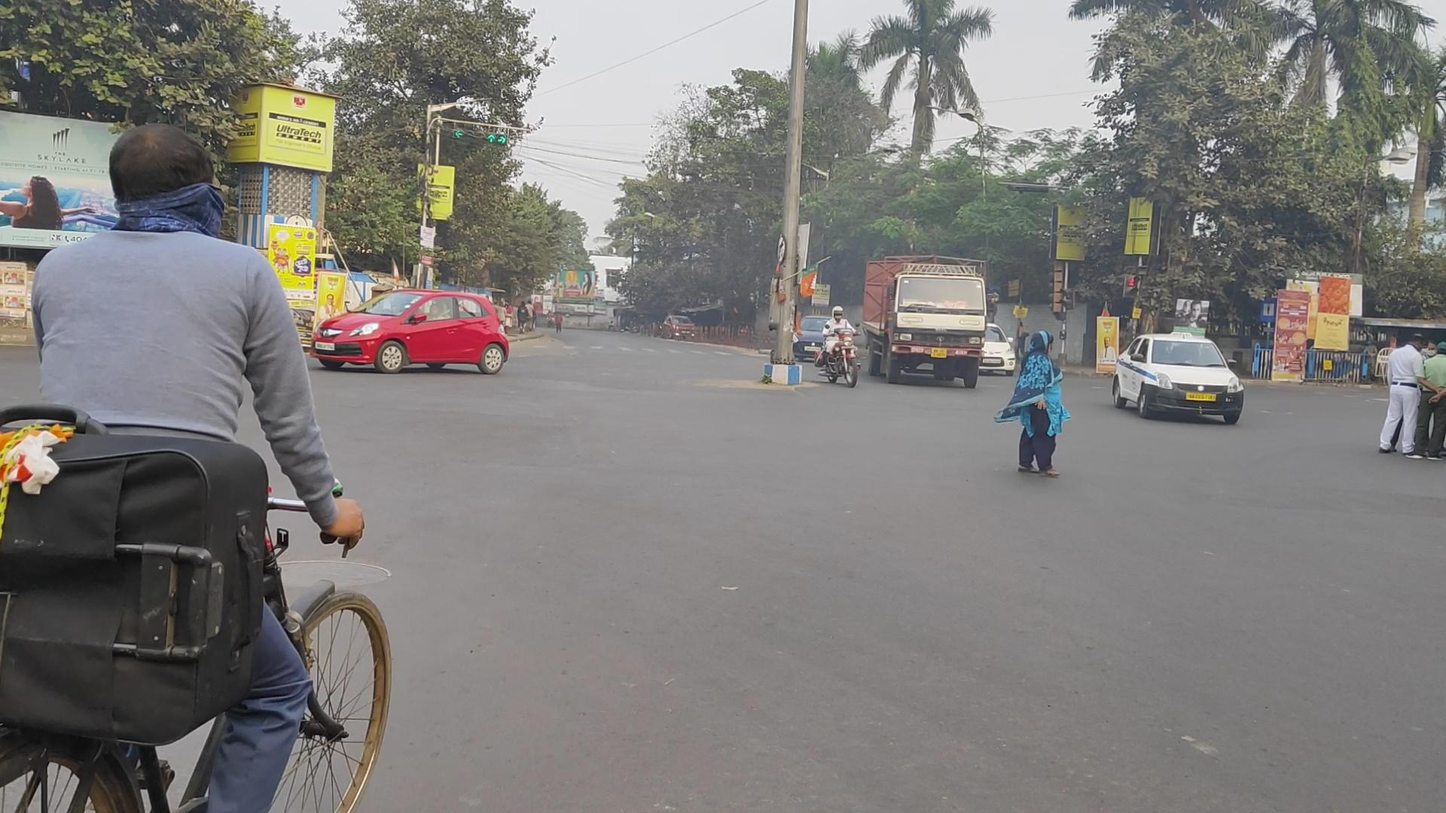bike: (1, 123, 392, 813), (812, 306, 859, 388)
car: (307, 288, 509, 375), (1112, 331, 1245, 425), (791, 314, 850, 364), (981, 320, 1017, 380)
truck: (861, 258, 987, 388)
